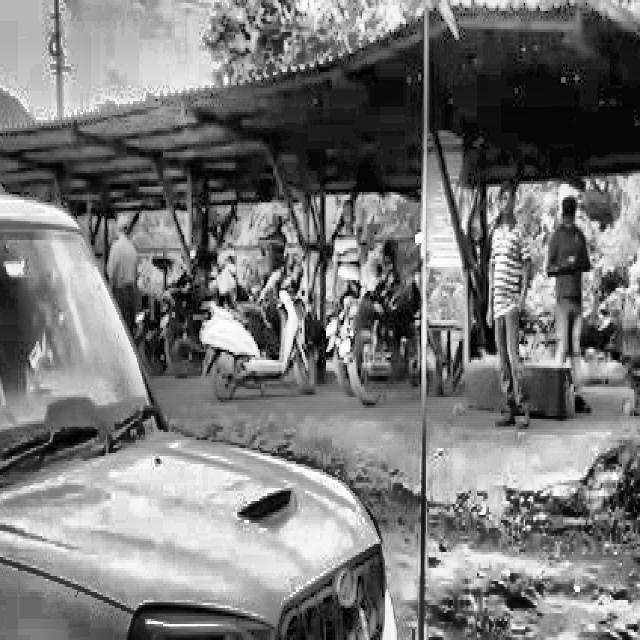light_vehicle: (0, 125, 400, 640)
